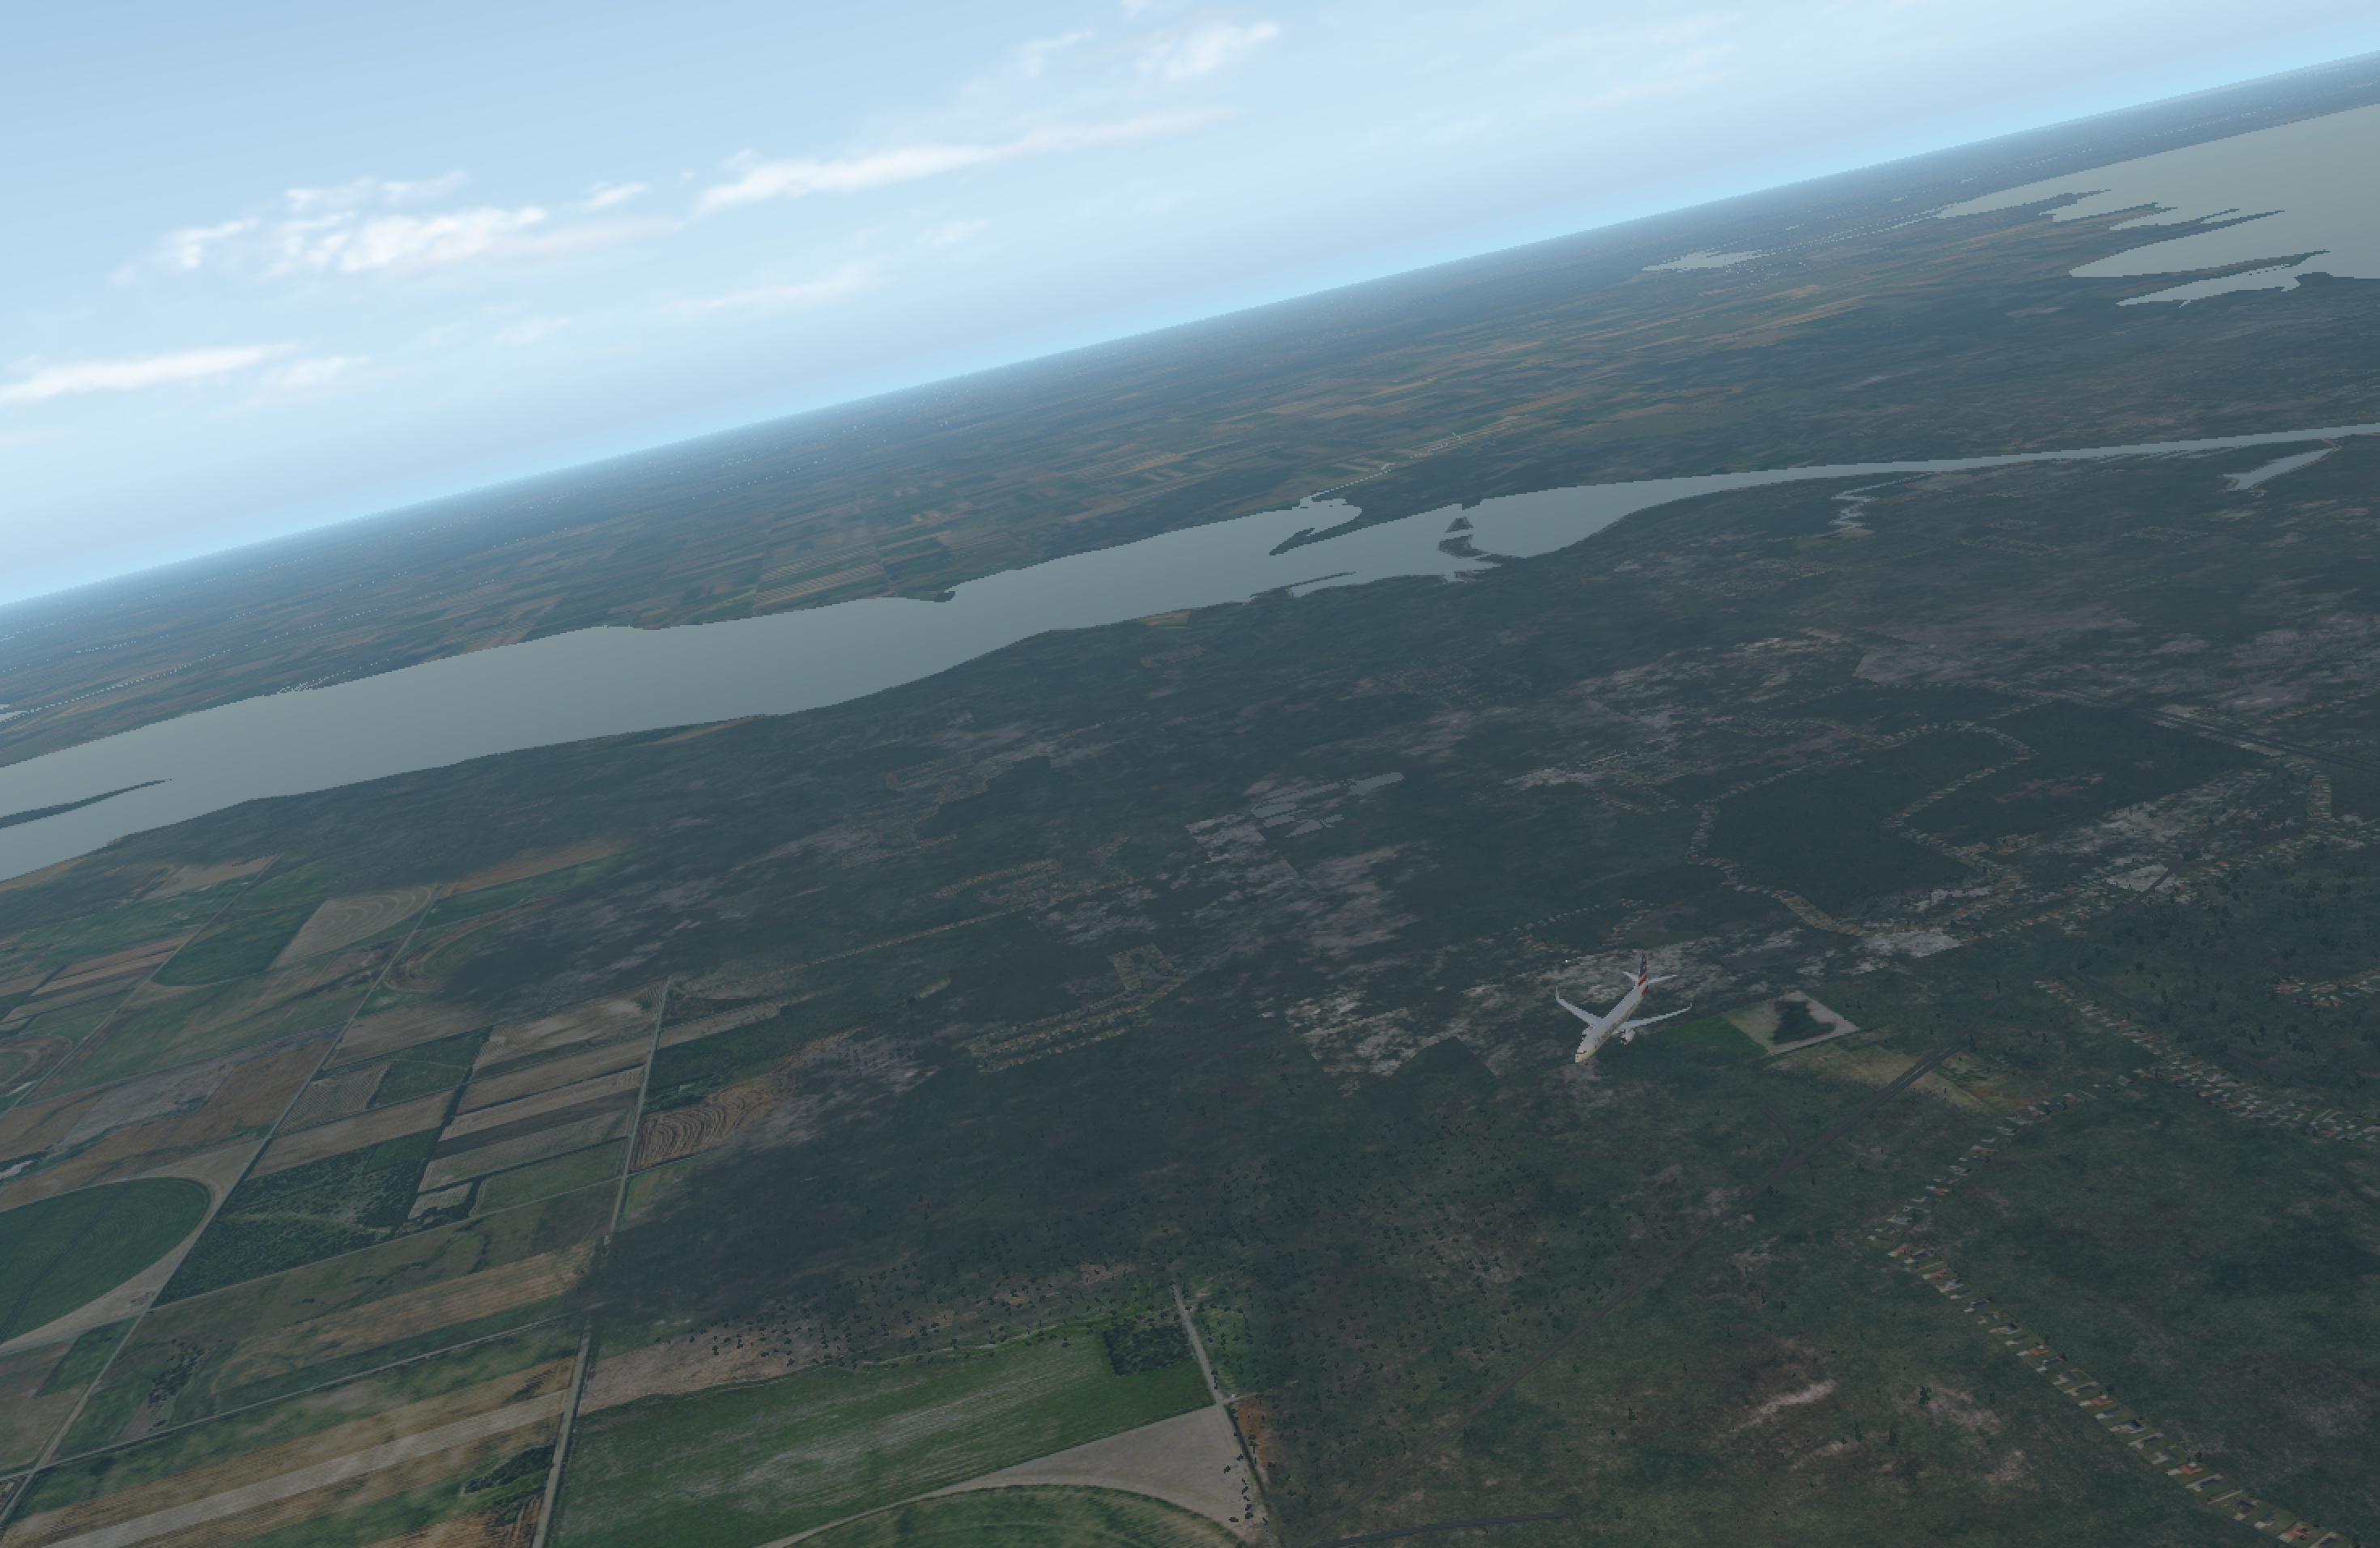aircraft: (1530, 993, 1697, 1055)
